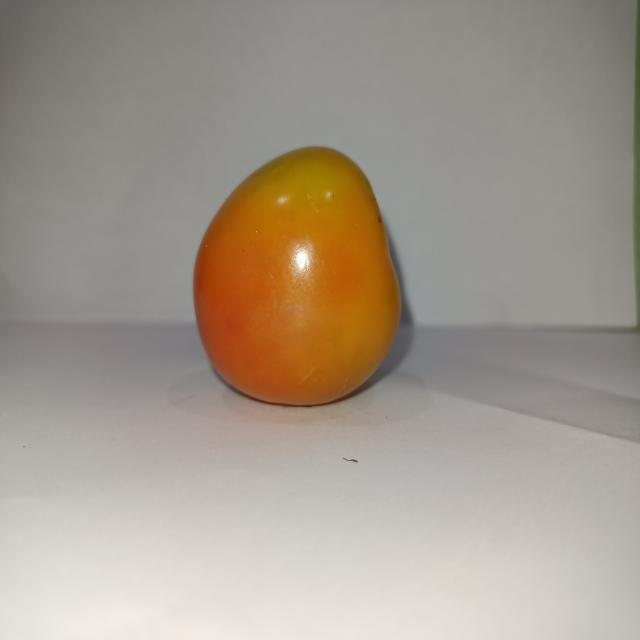Red: (191, 144, 402, 407)
